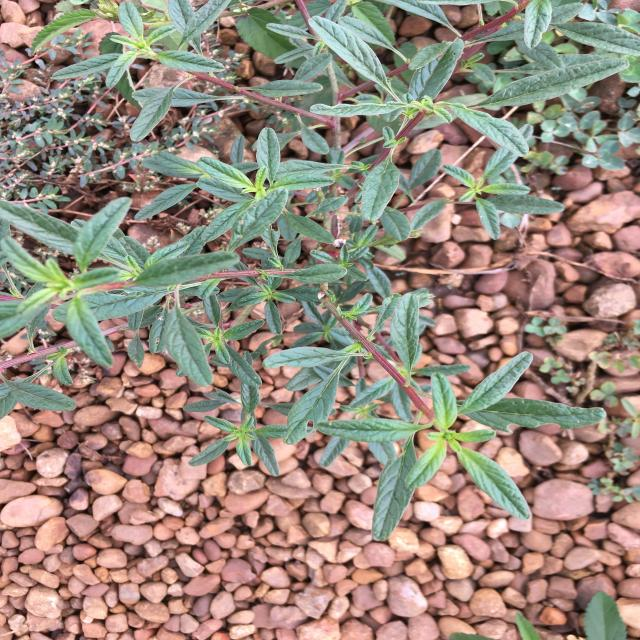Waterhemp: (1, 0, 639, 542)
